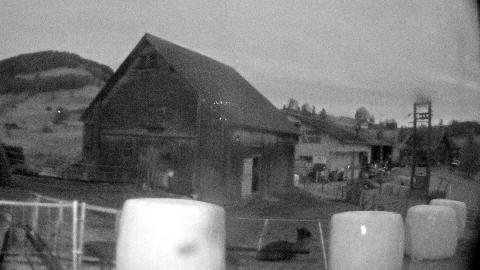sheep: (256, 225, 314, 263), (0, 210, 14, 258)
